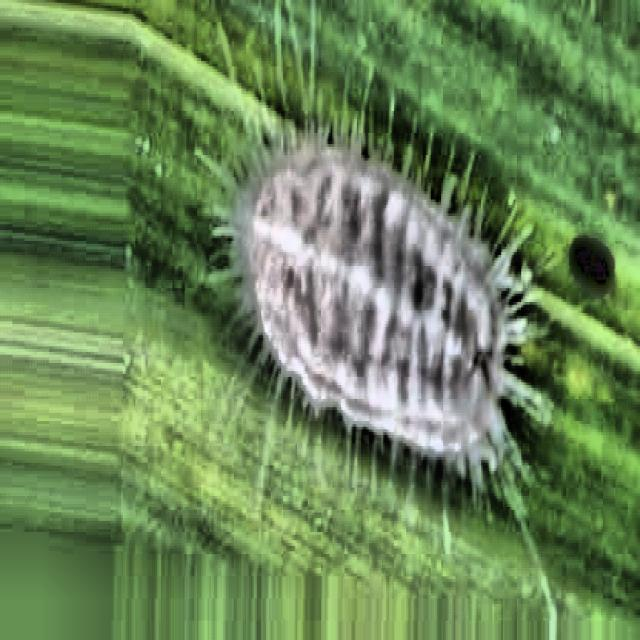Mealy-bug: (162, 68, 572, 557)
